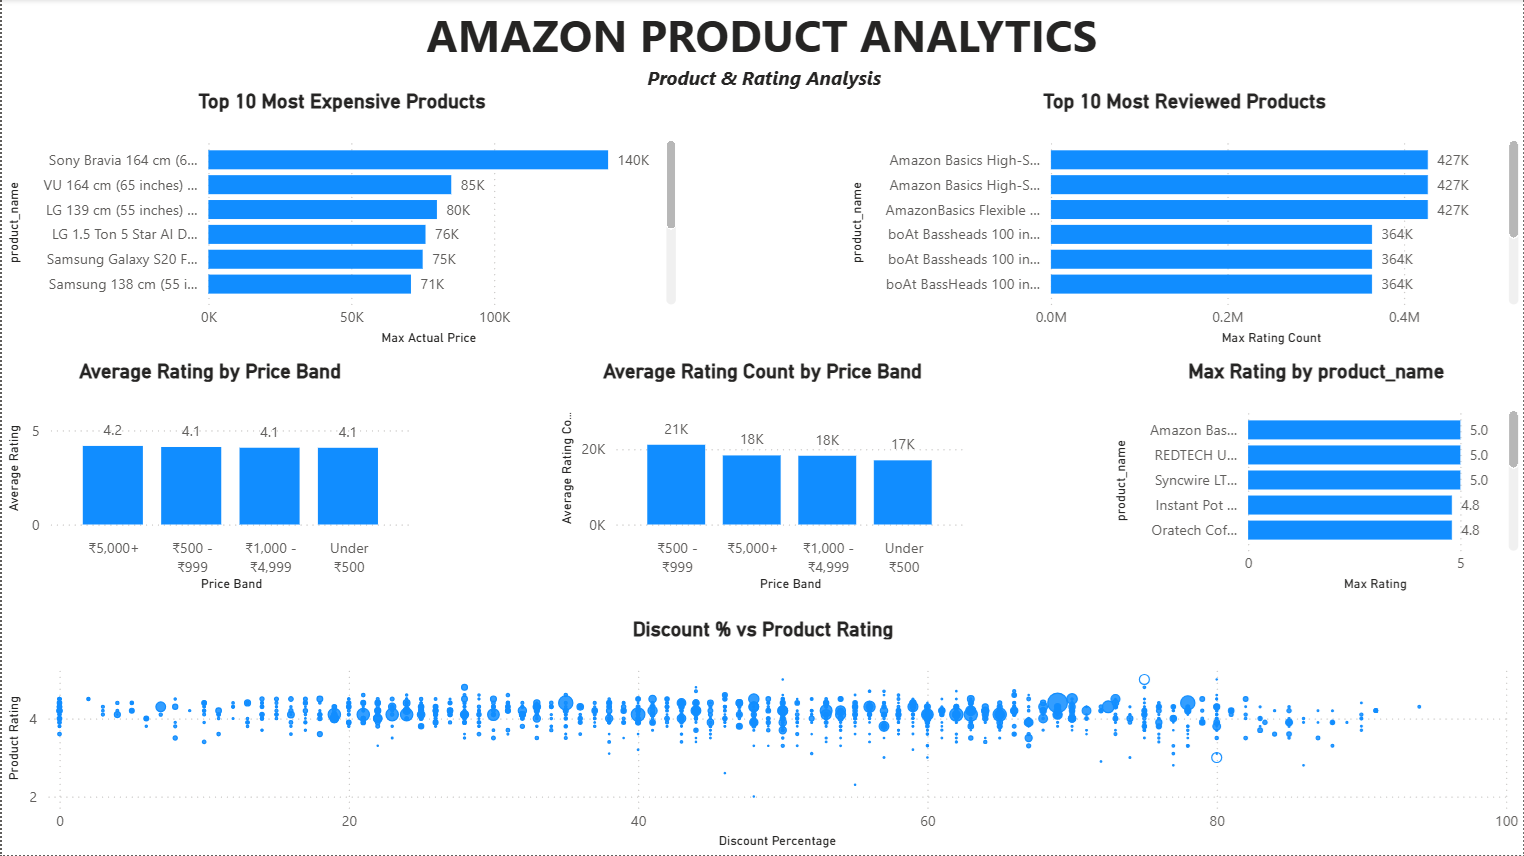

This screenshot's page, from the dashboard's own definition file:
{"tool":"powerbi","page":{"name":"Product & Rating Analysis","canvas":[1280,720],"ordinal":2},"visuals":[{"type":"clusteredColumnChart","fields":{"Category":["AmazonProducts.Price Band"],"Y":["AmazonProducts.Average Rating"]},"box":[0,302.6,350,200],"z":2000},{"type":"clusteredColumnChart","fields":{"Category":["AmazonProducts.Price Band"],"Y":["AmazonProducts.Average Rating Count"]},"box":[465.1,302.6,350,200],"z":3000},{"type":"textbox","box":[266.3,0,746.5,93],"z":3001},{"type":"clusteredBarChart","title":"Top 10 Most Expensive Products","fields":{"Category":["AmazonProducts.product_name"],"Y":["AmazonProducts.Max Actual Price"]},"box":[0.1,75.3,572,220],"z":3002},{"type":"clusteredBarChart","fields":{"Category":["AmazonProducts.product_name"],"Y":["AmazonProducts.Max Rating"]},"box":[930.2,302.6,350,200],"z":3003},{"type":"scatterChart","title":"Discount % vs Product Rating","fields":{"Category":["AmazonProducts.product_id"],"Size":["Sum(AmazonProducts.rating_count)"],"X":["Avg(AmazonProducts.discount_percentage)"],"Y":["Avg(AmazonProducts.rating)"]},"box":[0,519.8,1280.2,200],"z":3004},{"type":"clusteredBarChart","title":"Top 10 Most Reviewed Products","fields":{"Category":["AmazonProducts.product_name"],"Y":["AmazonProducts.Max Rating Count"]},"box":[708.3,75.3,572,220],"z":3005}]}

Visuals, with their boxes in screenshot pixels (x1, y1, x2, y2), scaled from the page's 1280x720 canvas onto the 1524x856 screenshot:
clusteredColumnChart - AmazonProducts.Price Band x AmazonProducts.Average Rating: <bbox>0, 360, 417, 598</bbox>
clusteredColumnChart - AmazonProducts.Price Band x AmazonProducts.Average Rating Count: <bbox>554, 360, 970, 598</bbox>
textbox: <bbox>317, 0, 1206, 111</bbox>
"Top 10 Most Expensive Products" clusteredBarChart: <bbox>0, 90, 681, 351</bbox>
clusteredBarChart - AmazonProducts.product_name x AmazonProducts.Max Rating: <bbox>1108, 360, 1523, 598</bbox>
"Discount % vs Product Rating" scatterChart: <bbox>0, 618, 1523, 855</bbox>
"Top 10 Most Reviewed Products" clusteredBarChart: <bbox>843, 90, 1523, 351</bbox>
